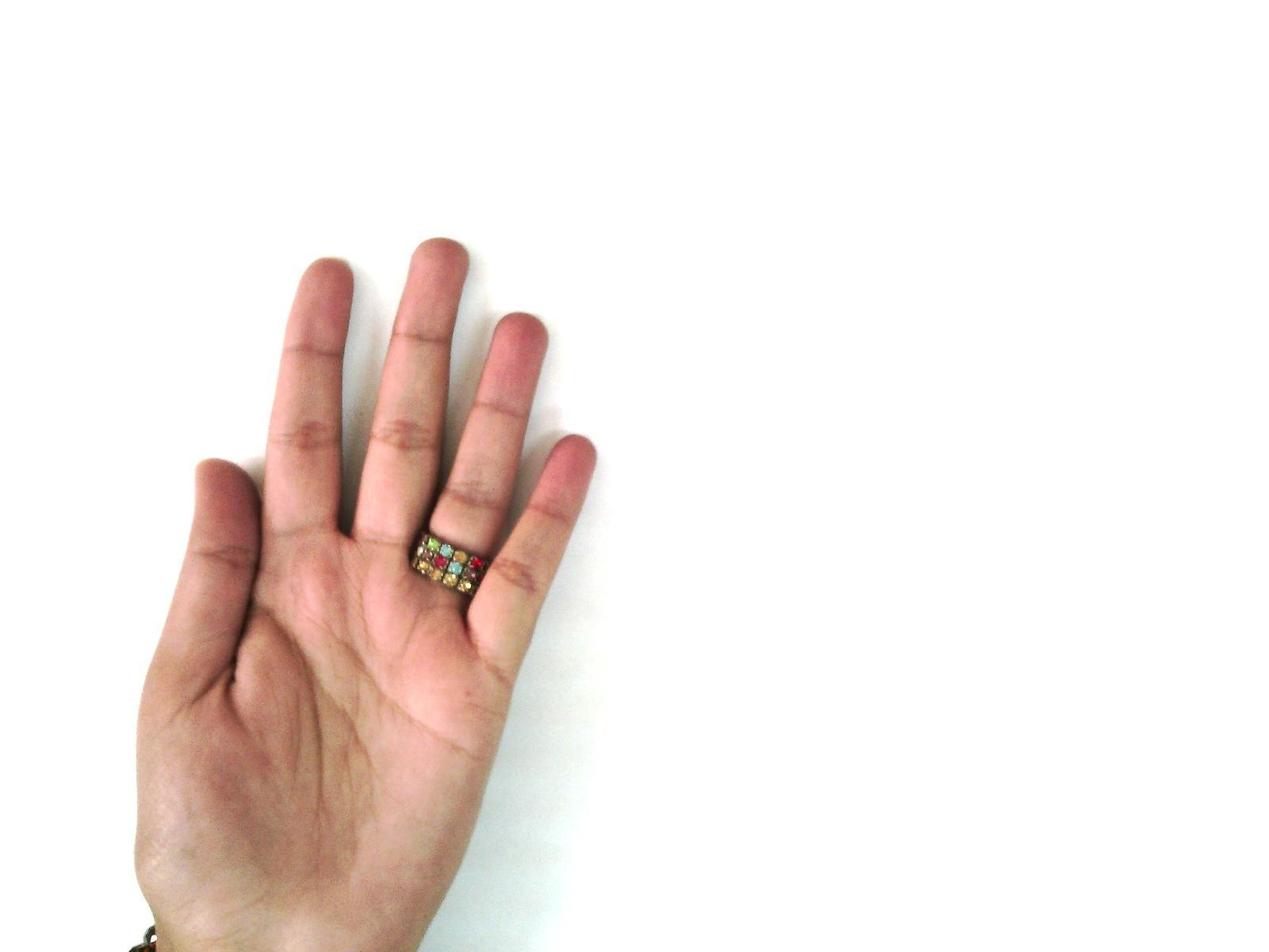open_palm: (131, 236, 600, 951)
